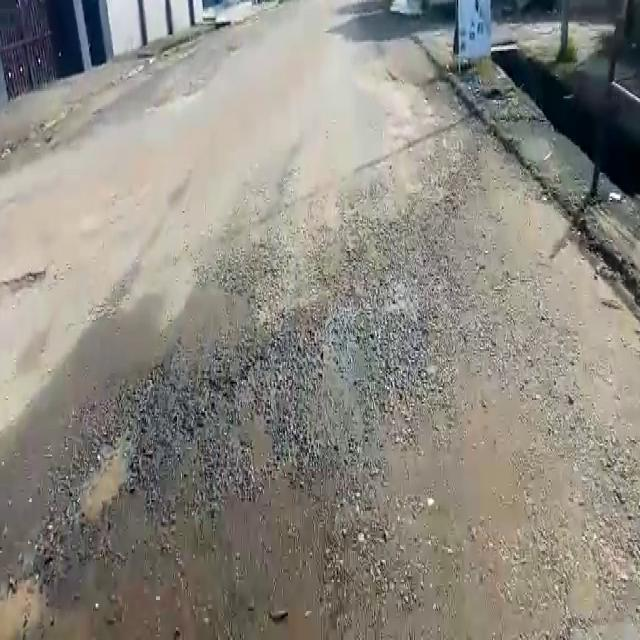pothole: (76, 430, 137, 536)
